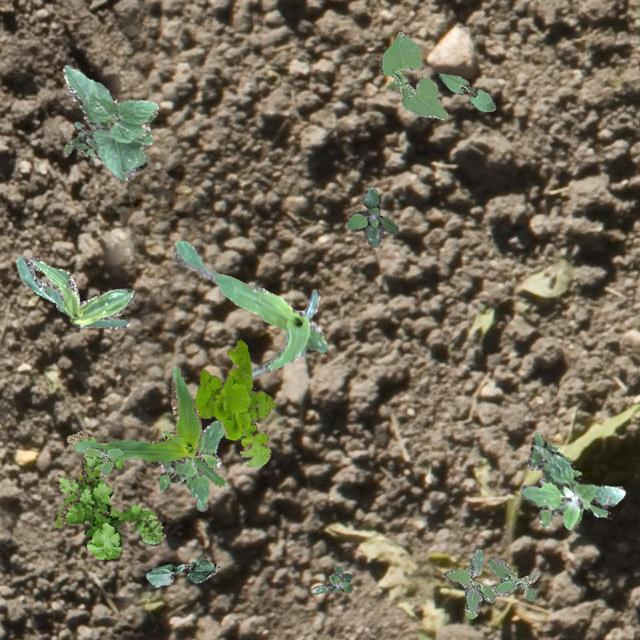crop: (172, 240, 326, 376), (70, 366, 224, 486), (62, 62, 156, 180), (15, 255, 134, 328), (379, 30, 446, 120), (53, 468, 99, 526), (144, 556, 218, 586), (438, 73, 494, 111)
weed: (54, 429, 164, 558), (194, 338, 274, 466), (520, 432, 624, 530), (442, 549, 536, 617), (158, 418, 224, 511), (346, 186, 398, 246), (82, 446, 121, 478), (62, 122, 98, 156), (310, 564, 350, 594)
